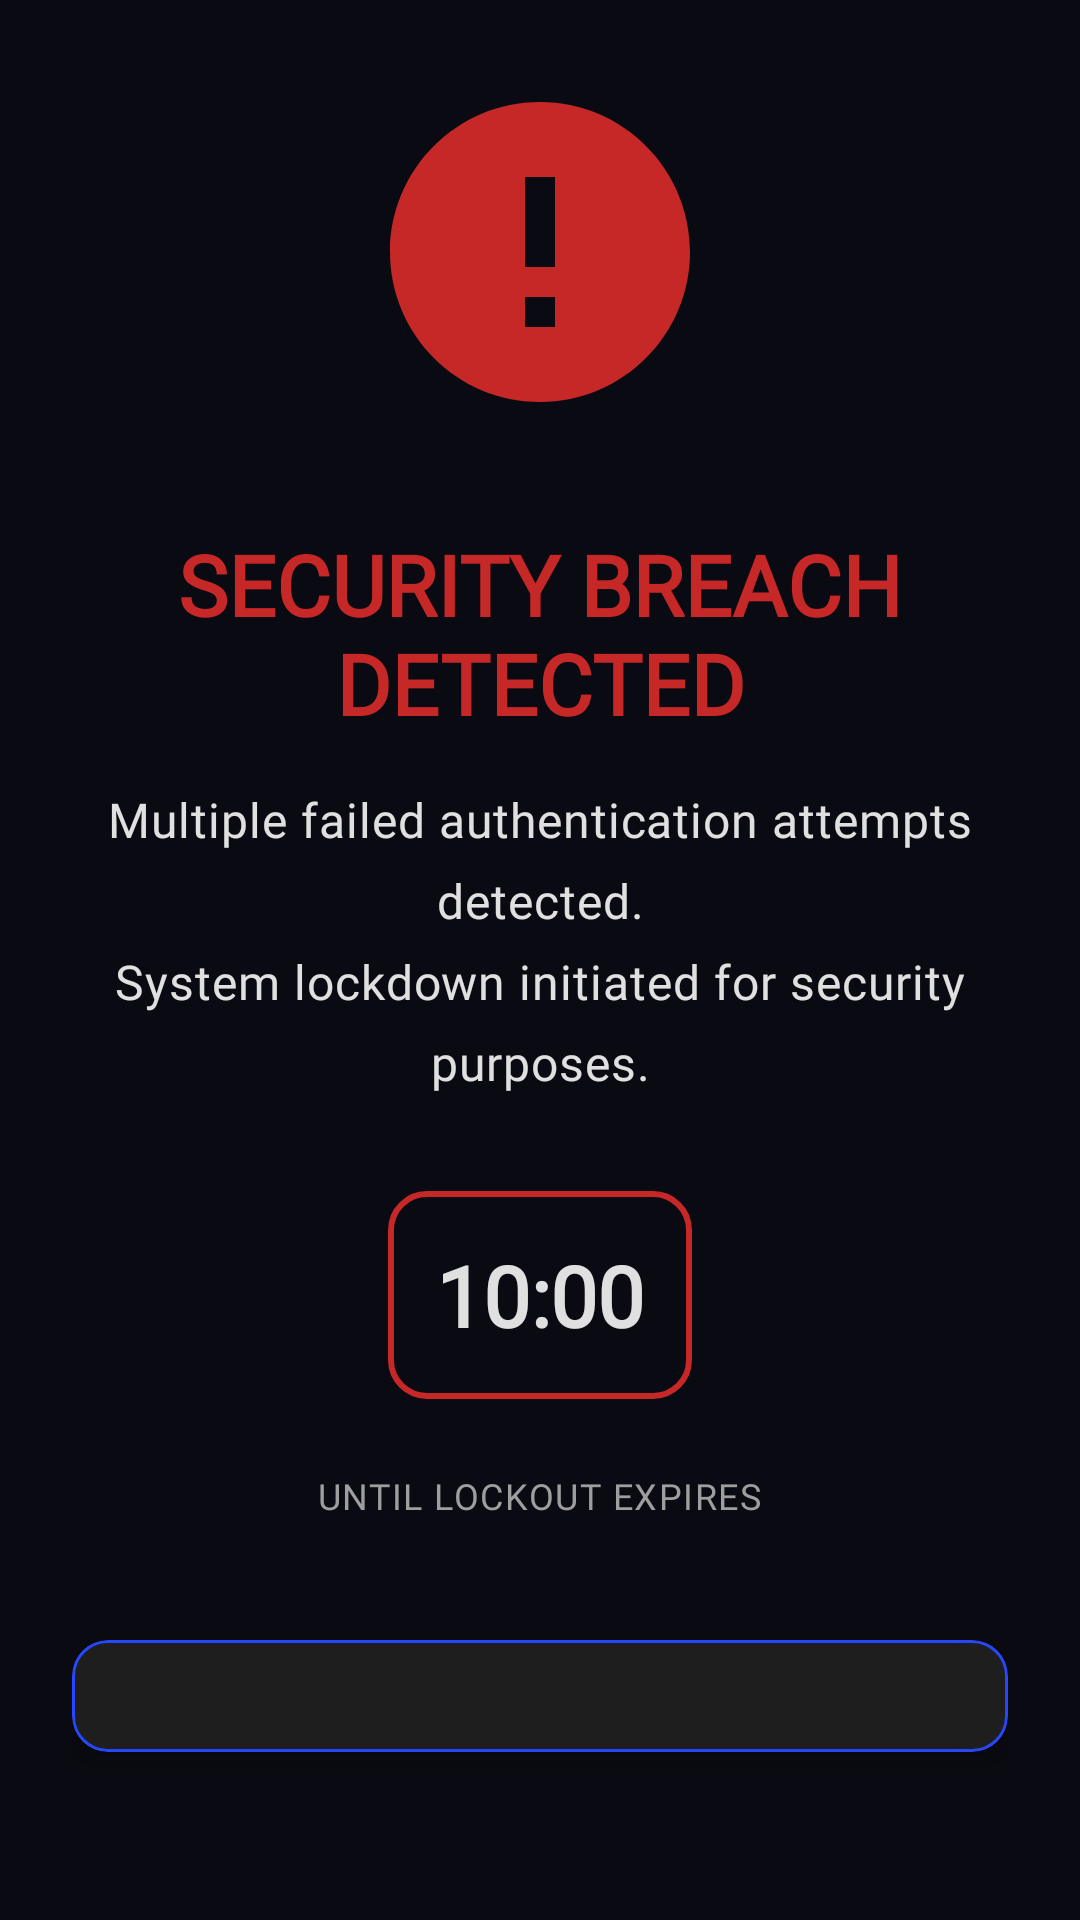

Icon bounding boxes for this 1080x1920 phone screenshot, format BBox(x1, y1, x2, y2):
lockout alert: BBox(390, 102, 690, 402)
